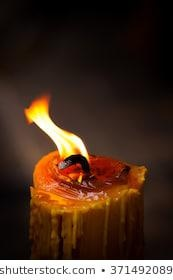fire: (23, 93, 92, 161)
